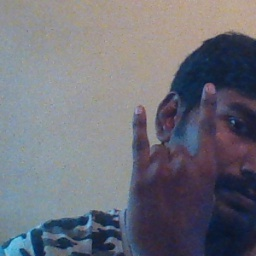V: (122, 77, 224, 254)
